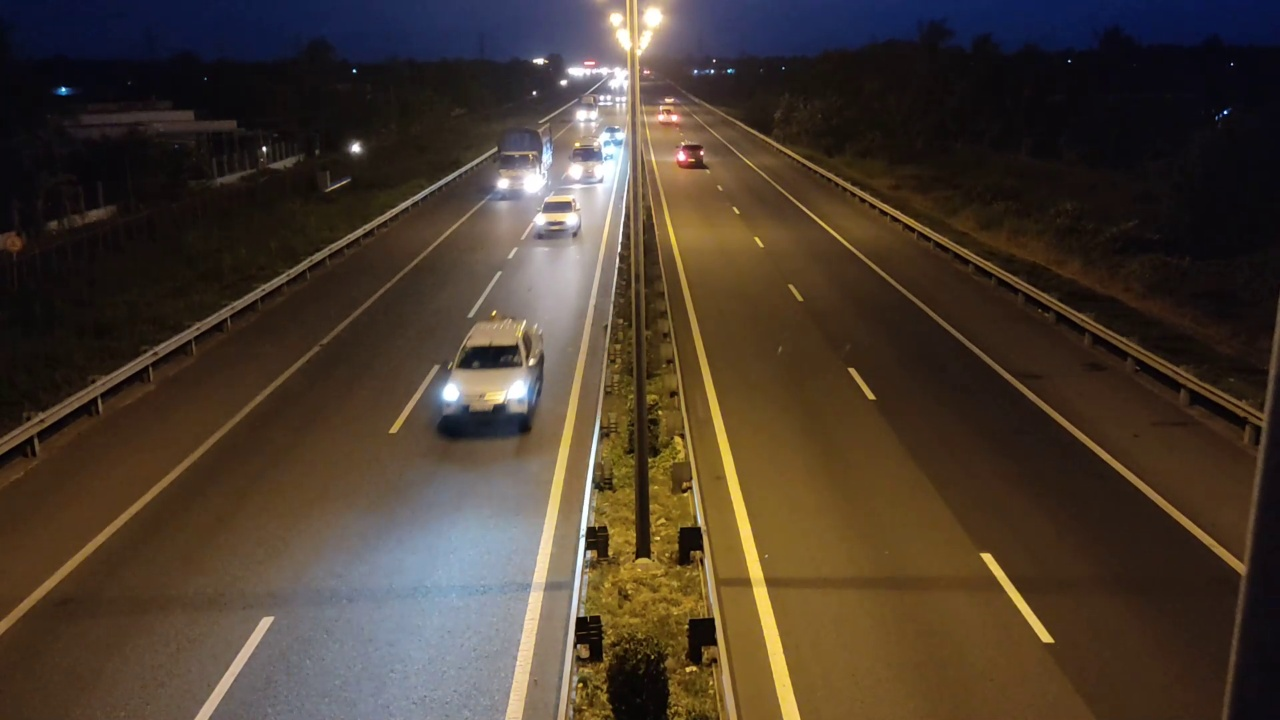car: (432, 312, 545, 437), (534, 195, 583, 240), (673, 141, 709, 170)
